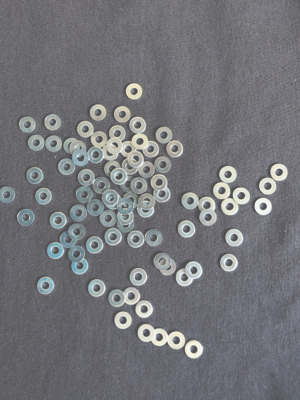circle: (268, 162, 289, 184), (219, 164, 239, 186), (185, 340, 205, 360), (86, 279, 106, 298), (254, 197, 274, 216), (154, 126, 175, 144), (114, 311, 133, 330), (136, 300, 155, 319), (36, 277, 55, 296), (18, 115, 37, 134), (151, 328, 169, 348), (168, 331, 186, 351), (175, 269, 195, 287), (212, 182, 232, 200), (258, 177, 278, 195), (25, 167, 45, 185), (137, 324, 156, 342), (107, 289, 126, 307), (122, 288, 141, 306), (185, 261, 203, 280), (104, 228, 122, 247), (127, 230, 145, 249), (199, 209, 218, 227), (117, 207, 136, 225), (87, 198, 105, 217), (63, 137, 81, 156), (27, 133, 46, 151), (77, 169, 97, 186), (125, 83, 145, 100), (129, 268, 147, 286), (220, 254, 238, 272), (46, 242, 64, 260), (146, 229, 164, 247), (221, 198, 239, 216), (137, 201, 155, 219), (166, 140, 184, 158), (114, 105, 132, 123), (120, 140, 138, 158), (77, 121, 95, 139), (58, 158, 76, 176), (70, 140, 88, 158), (49, 211, 67, 229), (110, 168, 129, 185), (154, 253, 171, 271), (159, 259, 177, 276), (72, 258, 89, 276), (68, 245, 85, 263), (225, 230, 243, 247), (178, 221, 195, 239), (182, 193, 200, 210), (233, 188, 251, 205), (118, 216, 136, 233), (117, 198, 135, 215), (75, 187, 93, 204), (92, 178, 110, 195), (138, 162, 156, 179), (142, 141, 160, 158), (129, 117, 147, 134), (102, 144, 120, 161), (89, 104, 107, 121), (44, 114, 62, 131), (35, 188, 52, 206), (17, 209, 35, 226), (121, 193, 140, 209), (103, 161, 122, 177), (60, 231, 77, 248), (69, 223, 86, 240), (86, 237, 103, 254), (154, 186, 171, 203), (131, 177, 148, 194), (121, 158, 138, 175), (132, 133, 149, 150), (109, 125, 126, 142), (91, 131, 108, 148), (45, 135, 62, 152), (198, 196, 216, 212), (70, 206, 88, 222), (151, 175, 169, 191), (154, 157, 172, 173), (106, 138, 124, 154), (99, 212, 116, 228), (139, 193, 156, 209), (106, 193, 122, 210), (102, 190, 119, 206), (120, 176, 136, 193), (127, 152, 144, 168), (88, 147, 104, 164), (73, 150, 89, 167), (1, 186, 16, 204)
